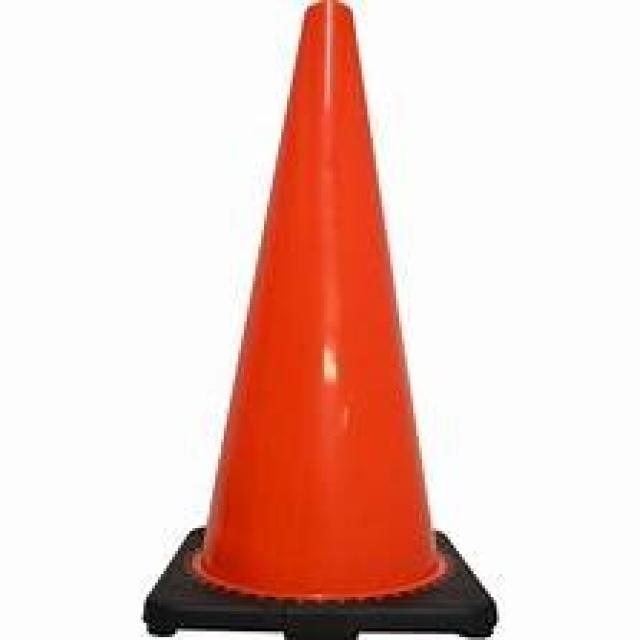traffic cone: (135, 1, 511, 640)
